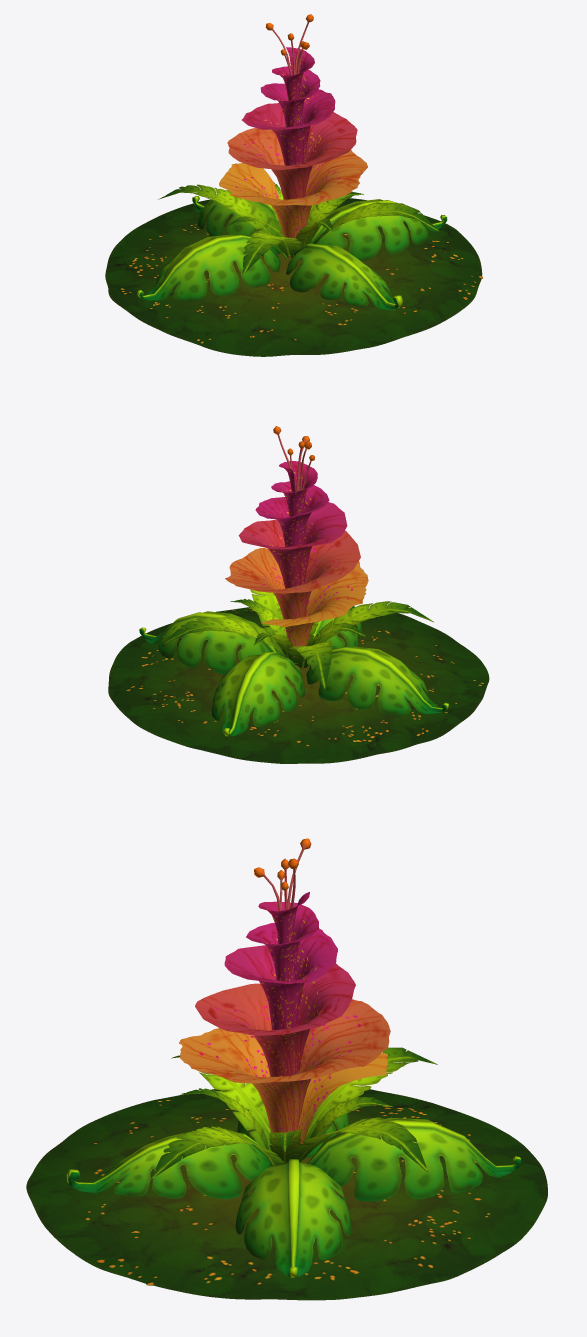
File: plant_flower.dae
The picture shows the model from 3 angles, top to bottom: view 1: azimuth 30°, elevation 25°; view 2: azimuth 150°, elevation 25°; view 3: azimuth 270°, elevation 25°; orthographic projection. The views are drawn at different scales.
Visible parts, largest first — view 1: FlowerMain_Cylinder.003; view 2: FlowerMain_Cylinder.003; view 3: FlowerMain_Cylinder.003.
Boxes of the visible parts, x1=… form: FlowerMain_Cylinder.003: x1=105, y1=14, x2=482, y2=356; FlowerMain_Cylinder.003: x1=108, y1=426, x2=489, y2=763; FlowerMain_Cylinder.003: x1=26, y1=838, x2=547, y2=1300.
Bounding box in the file's own units: 9.37 × 9.37 × 6.6.
Materials: 1 (1 with a texture image).
